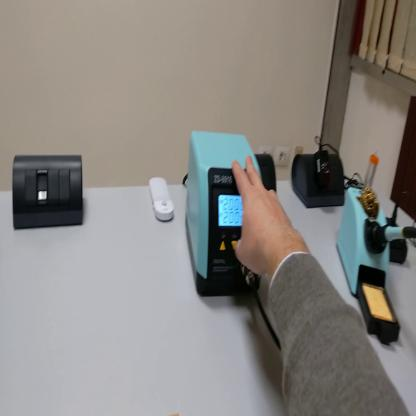electric screwdriver battery: (387, 217, 409, 264)
hand: (232, 154, 299, 279)
socket: (291, 150, 346, 212), (255, 150, 276, 197)
welder base: (338, 186, 404, 346)
welder probe tip: (370, 214, 415, 251)
welder station: (184, 133, 260, 300)
